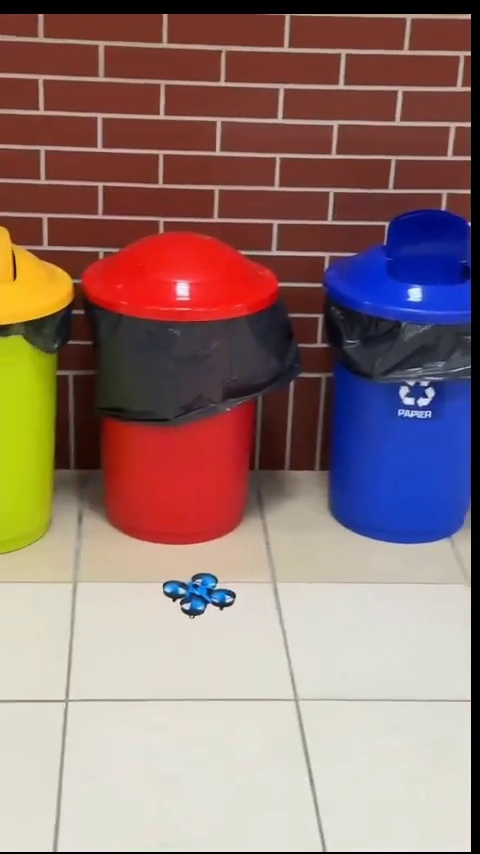drone: (163, 568, 233, 616)
